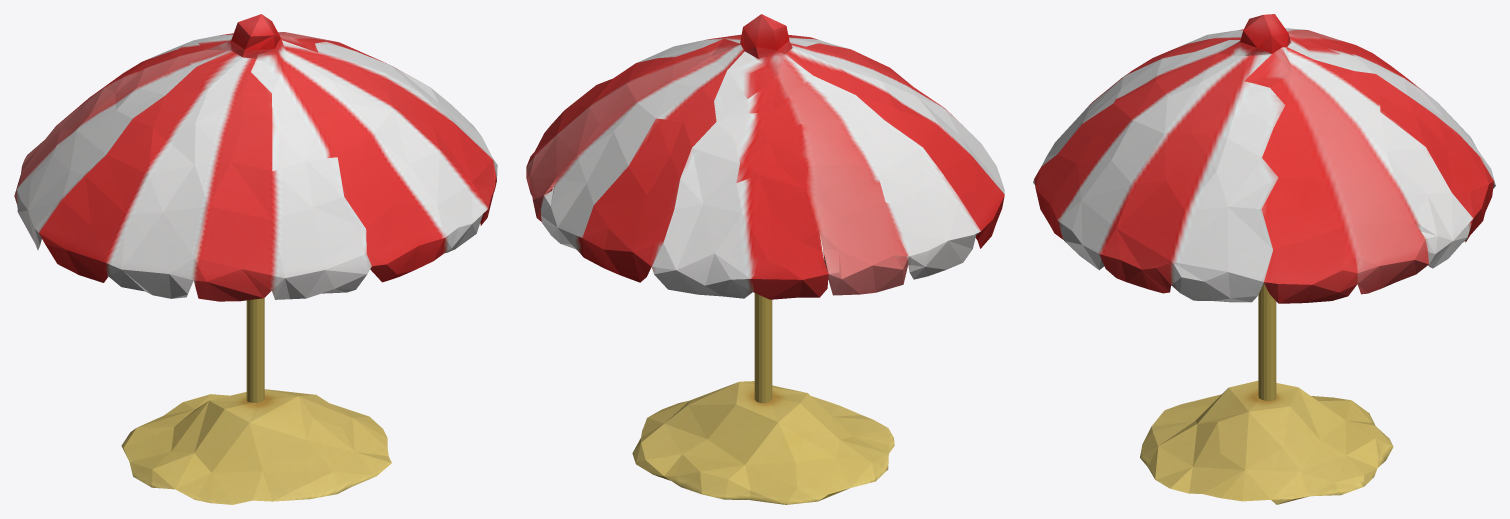
File: beach_umbrella.glb
3 views of the same model, side by side, from view 1: azimuth 30°, elevation 25°; view 2: azimuth 150°, elevation 25°; view 3: azimuth 270°, elevation 25° (orthographic).
Visible parts, largest first — view 1: geometry_0; view 2: geometry_0; view 3: geometry_0.
Boxes of the visible parts, x1,y1,x2,y2 form: geometry_0: (14, 14, 497, 504); geometry_0: (526, 14, 1004, 504); geometry_0: (1033, 14, 1495, 504).
Size of the model in its own units: 1 by 0.9642 by 0.925.
Materials: 1 (1 with a texture image).
